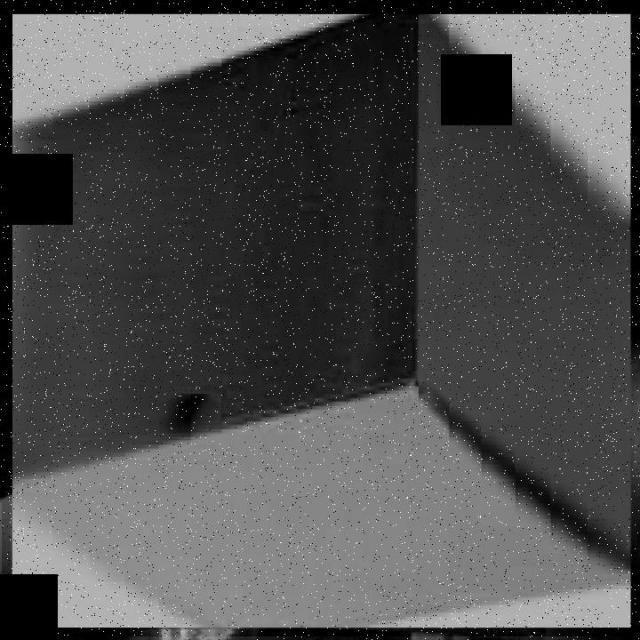box: (2, 4, 640, 636)
